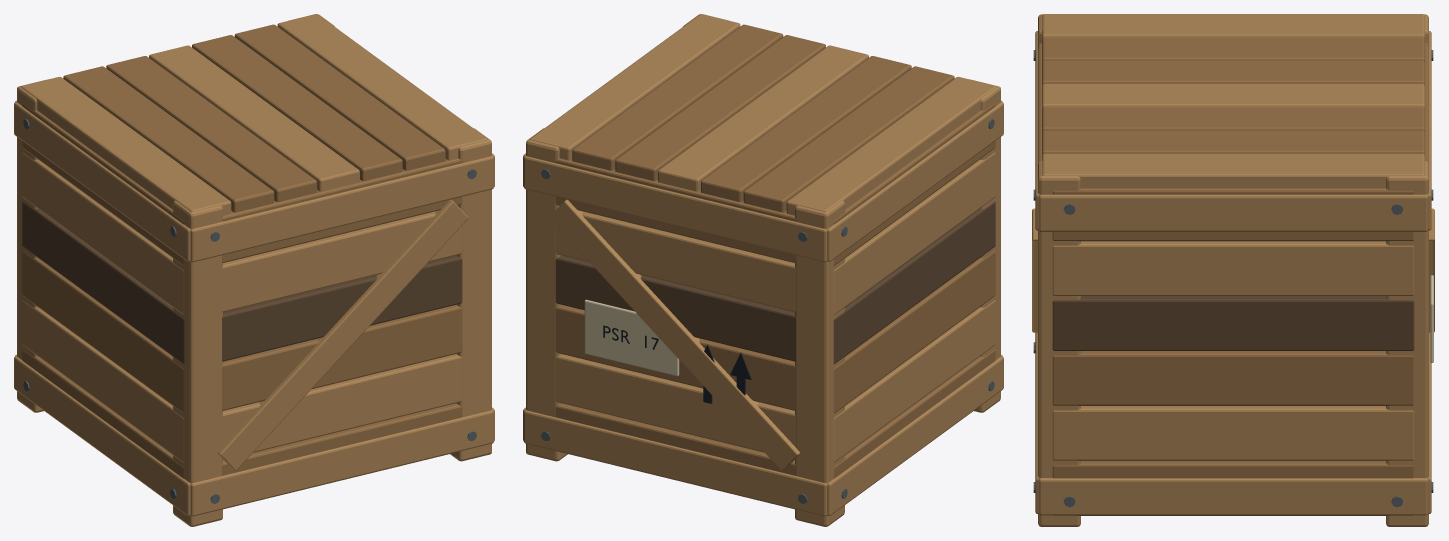
The model's file is PetiKayu.fbx.
The picture shows the model from 3 angles, left to right: view 1: azimuth 30°, elevation 25°; view 2: azimuth 150°, elevation 25°; view 3: azimuth 270°, elevation 25°; orthographic projection. The views are drawn at different scales.
Parts seen in each view (by area): view 1: PetiKayu; view 2: PetiKayu; view 3: PetiKayu.
Part boxes in pixels (x1,y1,x2,y2): PetiKayu: (14, 14, 494, 526); PetiKayu: (523, 14, 1003, 526); PetiKayu: (1032, 14, 1434, 526).
Bounding box in the file's own units: 102 × 99.35 × 103.
